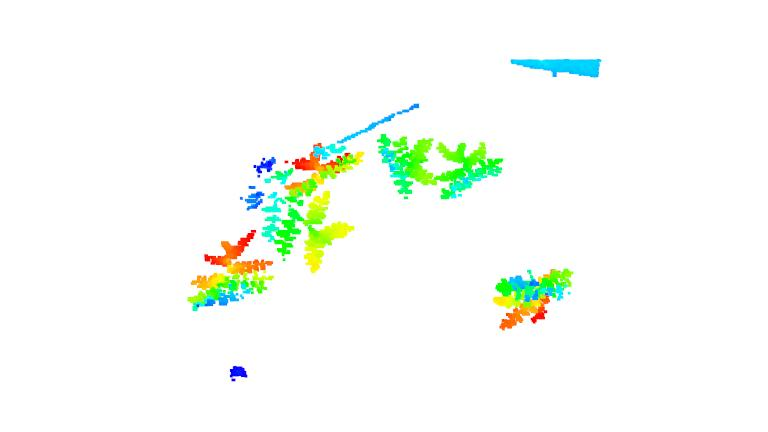chickpea: (241, 160, 352, 269), (191, 233, 272, 310), (491, 265, 575, 331), (432, 140, 504, 203), (375, 128, 437, 197), (283, 141, 361, 191)
